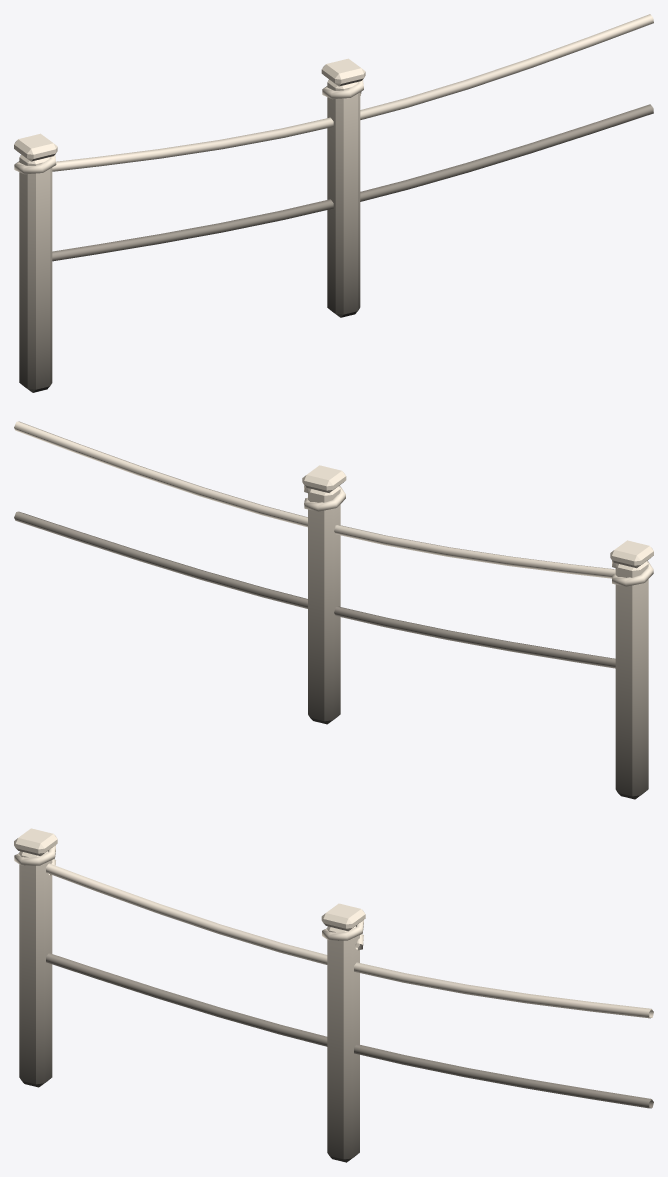
File: SM_VK_Pier_Rail.fbx
3 renders of one model, top to bottom at view 1: azimuth 30°, elevation 25°; view 2: azimuth 150°, elevation 25°; view 3: azimuth 330°, elevation 25°, orthographic.
Parts seen in each view (by area): view 1: SM_VK_Pier_Rail.001; view 2: SM_VK_Pier_Rail.001; view 3: SM_VK_Pier_Rail.001.
Part boxes in pixels (left/top/right/bottom): SM_VK_Pier_Rail.001: left=14, top=14, right=653, bottom=392; SM_VK_Pier_Rail.001: left=14, top=421, right=653, bottom=799; SM_VK_Pier_Rail.001: left=14, top=828, right=653, bottom=1162.
Bounding box in the file's own units: 3.09 × 1.15 × 0.1789.
